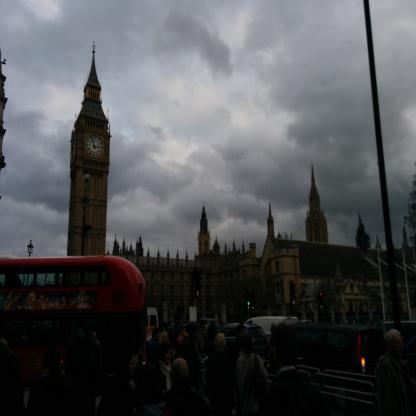bus: (0, 252, 149, 388)
